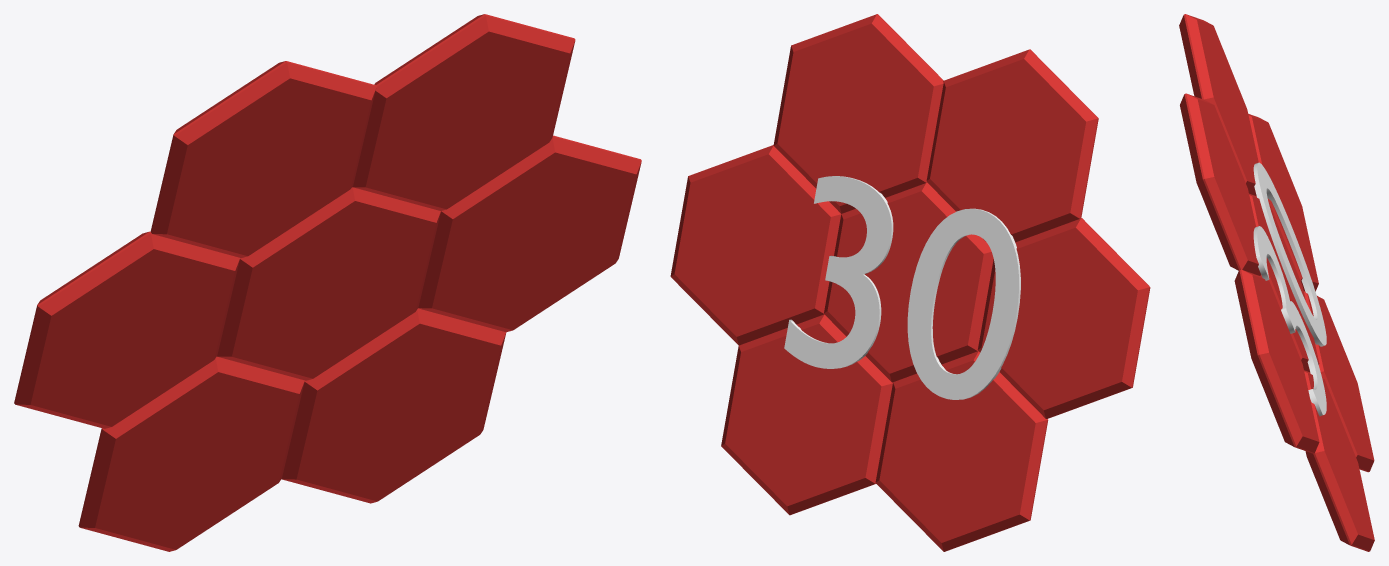
The model's file is speed_disc_30.dae.
3 views of the same model, side by side, from view 1: azimuth 30°, elevation 25°; view 2: azimuth 150°, elevation 25°; view 3: azimuth 270°, elevation 25° (orthographic). The views are drawn at different scales.
Parts seen in each view (by area): view 1: Circle.006, Circle.005, Circle.001, Circle.004, Circle.003, Circle.002, Circle; view 2: Circle.002, Circle.006, Circle.001, Circle.004, Circle.003, Circle.005, Text, Circle; view 3: Circle.002, Circle.001, Text, Circle.003, Circle.006, Circle.004, Circle.005, Circle.
Boxes of the visible parts, left/top/right/bottom form: Circle.006: left=150, top=61, right=376, bottom=257; Circle.005: left=14, top=231, right=240, bottom=428; Circle.001: left=352, top=14, right=575, bottom=210; Circle.004: left=78, top=356, right=304, bottom=551; Circle.003: left=281, top=308, right=506, bottom=503; Circle.002: left=418, top=135, right=641, bottom=332; Circle: left=217, top=187, right=440, bottom=380; Circle.002: left=670, top=145, right=841, bottom=345; Circle.006: left=926, top=49, right=1098, bottom=242; Circle.001: left=773, top=14, right=943, bottom=213; Circle.004: left=875, top=351, right=1048, bottom=551; Circle.003: left=721, top=314, right=892, bottom=515; Circle.005: left=977, top=218, right=1150, bottom=418; Text: left=784, top=176, right=1020, bottom=399; Circle: left=824, top=183, right=993, bottom=382; Circle.002: left=1234, top=269, right=1319, bottom=453; Circle.001: left=1180, top=93, right=1260, bottom=275; Text: left=1253, top=162, right=1326, bottom=416; Circle.003: left=1304, top=370, right=1374, bottom=551; Circle.006: left=1179, top=14, right=1258, bottom=195; Circle.004: left=1303, top=291, right=1374, bottom=472; Circle.005: left=1248, top=114, right=1318, bottom=291; Circle: left=1249, top=193, right=1319, bottom=372.
Size of the model in its own units: 2.13 by 0.7479 by 1.94.
